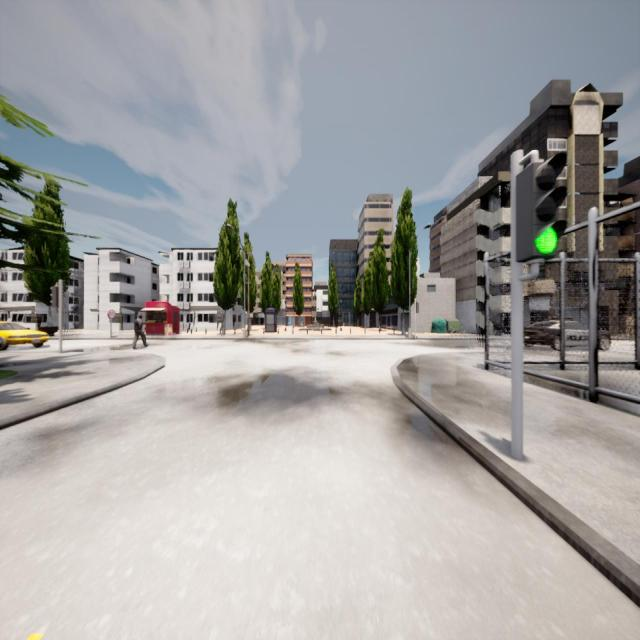Pedestrian: (133, 313, 147, 349)
Traffic_Signs: (108, 310, 114, 317)
Vehicle: (524, 319, 608, 350), (0, 321, 48, 348)
traffic_light: (516, 166, 557, 256), (51, 286, 58, 308), (416, 302, 419, 313)
